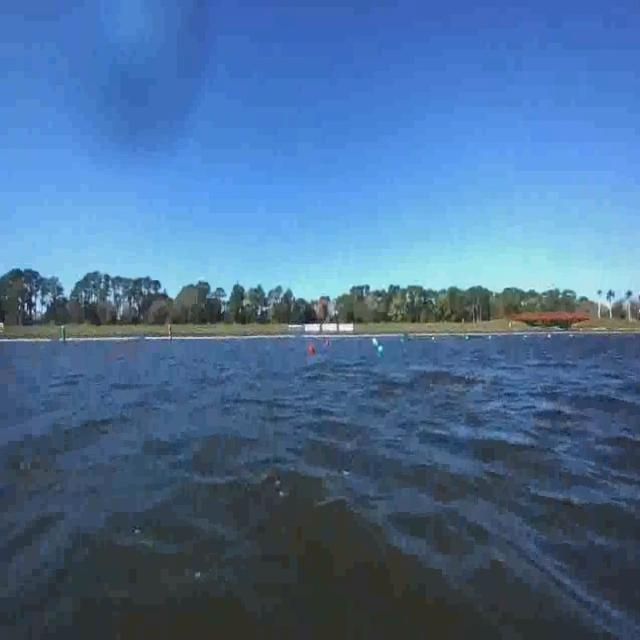red-buoy: (307, 344, 314, 357)
